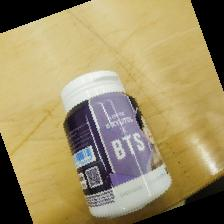Xylitol_BTS: (61, 69, 173, 219)
